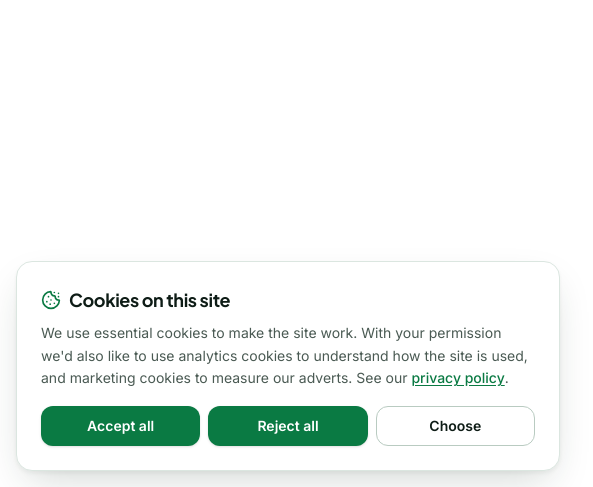
Test case: ConsentBanner › re-opens from the footer's cookie settings link
This screenshot has width=593, height=487.
Click the button "Accept all" at (121, 426), box [41,406,200,446]
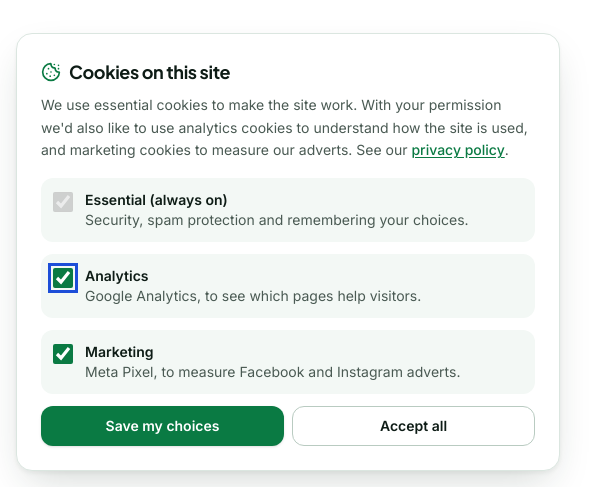
Result: the checkbox labelled "Marketing" is checked at [53,344,73,364]
